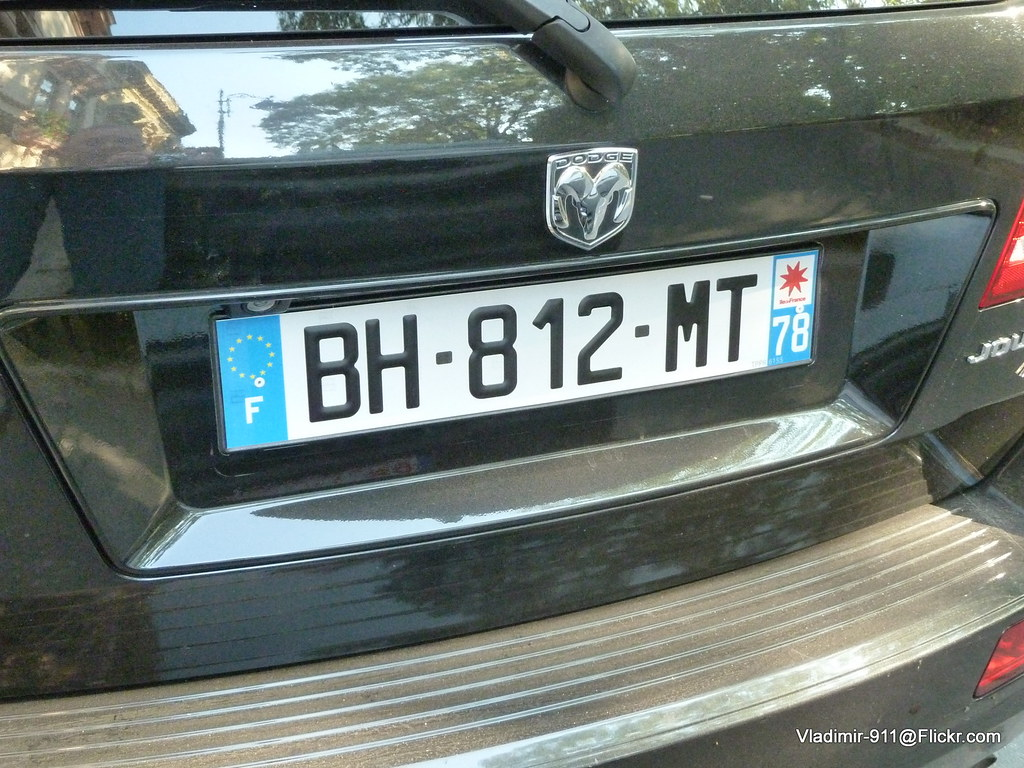license_plate: (211, 242, 824, 461)
